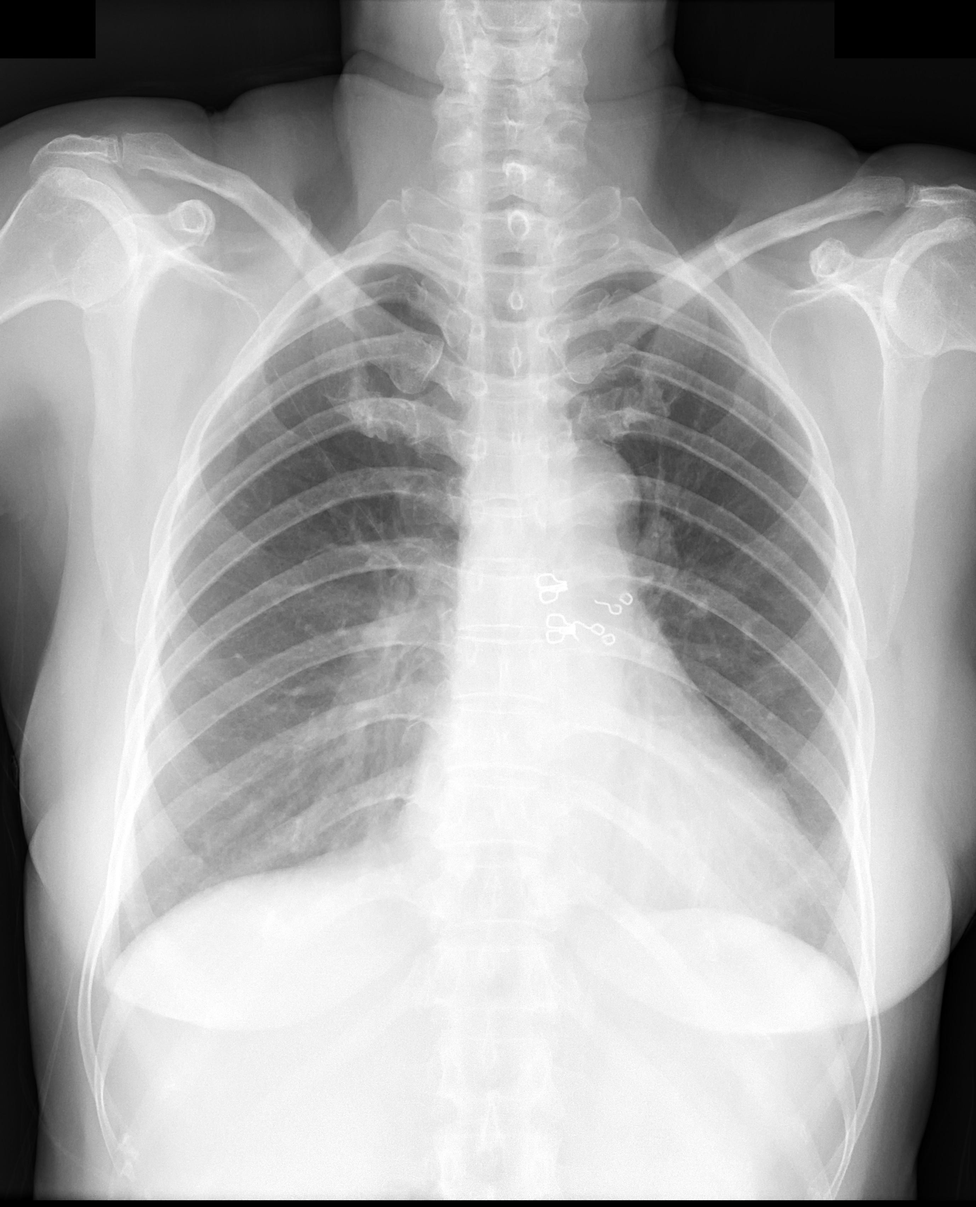Cardiomegaly: (401, 774, 832, 935)
